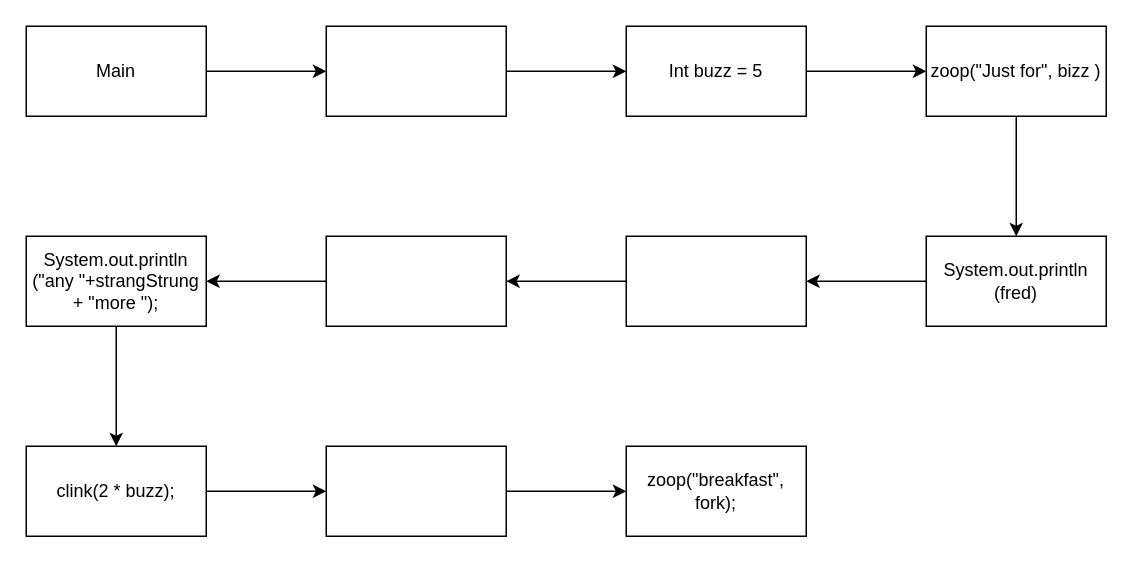
Some shapes in this 1133 by 563 pixel diagram are drawn without their labels. Each missing label, with the centre of its shape:
If (boob == 5): (715,280)
Int bizz = 5: (415,70)
ping("not ");: (415,280)
System.out.println ("It's ");: (415,490)
